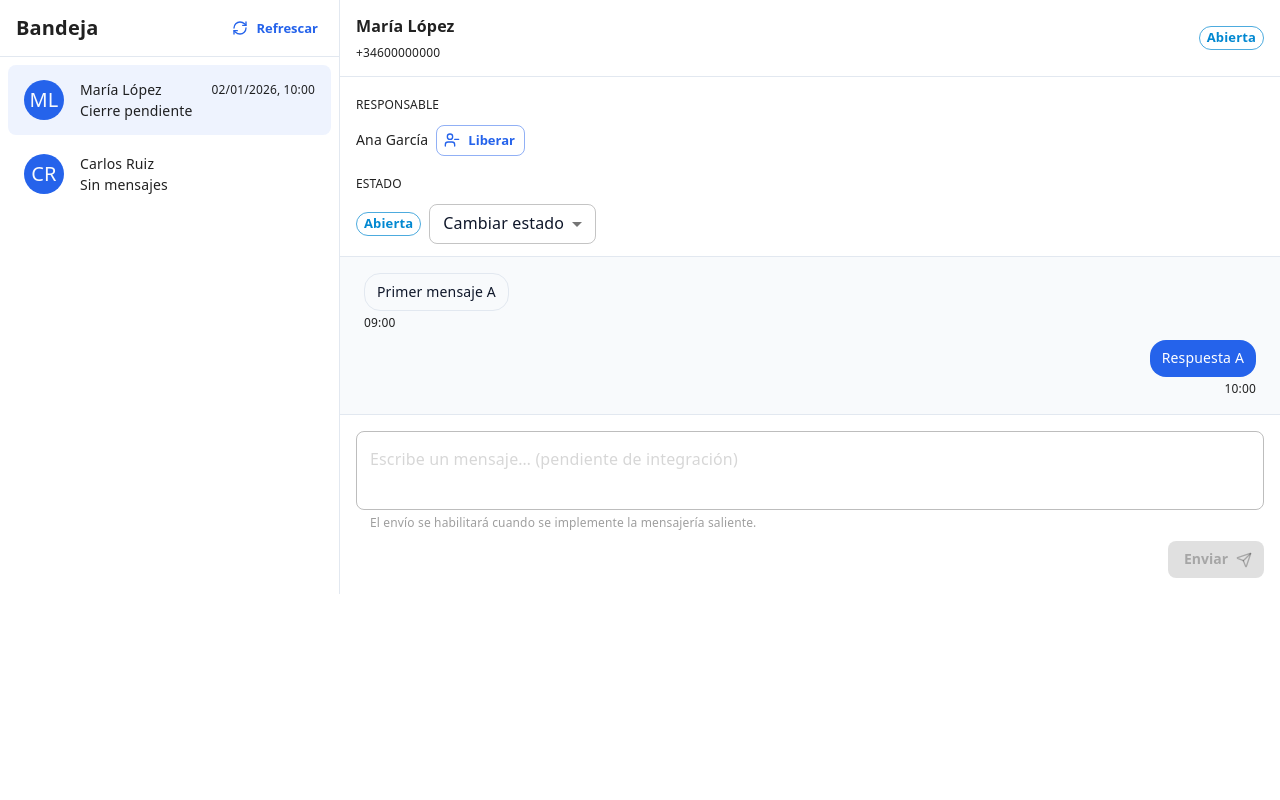
Scenario: InboxPage · acciones T09 › asigna al usuario actual con la respuesta confirmada del backend
This screenshot has width=1280, height=800.
Expected: the text "Primer mensaje A" is shown, left=377, top=282, right=496, bottom=302
Click the button "CR Carlos Ruiz Sin mensajes" at (96, 174), box left=24, top=154, right=168, bottom=194
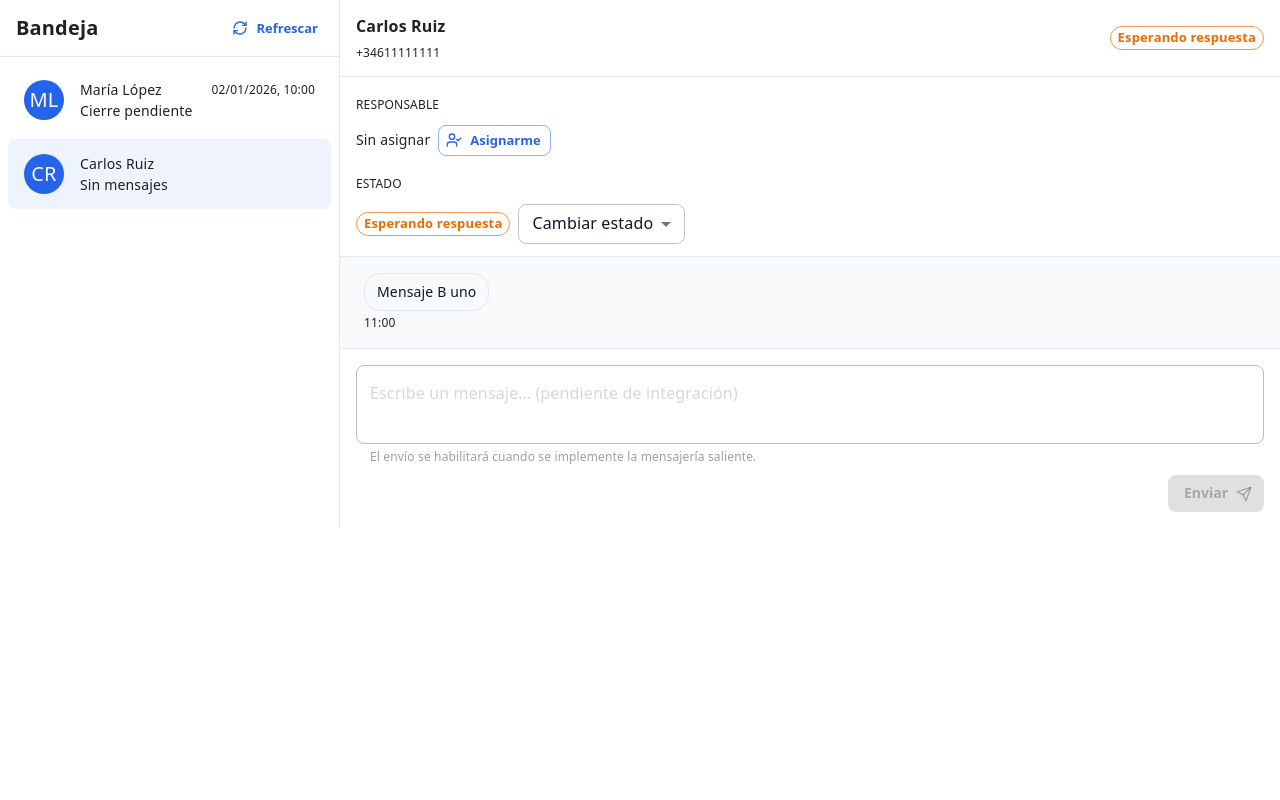
Now the text "Mensaje B uno" is shown, box left=377, top=282, right=476, bottom=302
Click the button "Asignarme" at (494, 140), box left=438, top=125, right=551, bottom=156
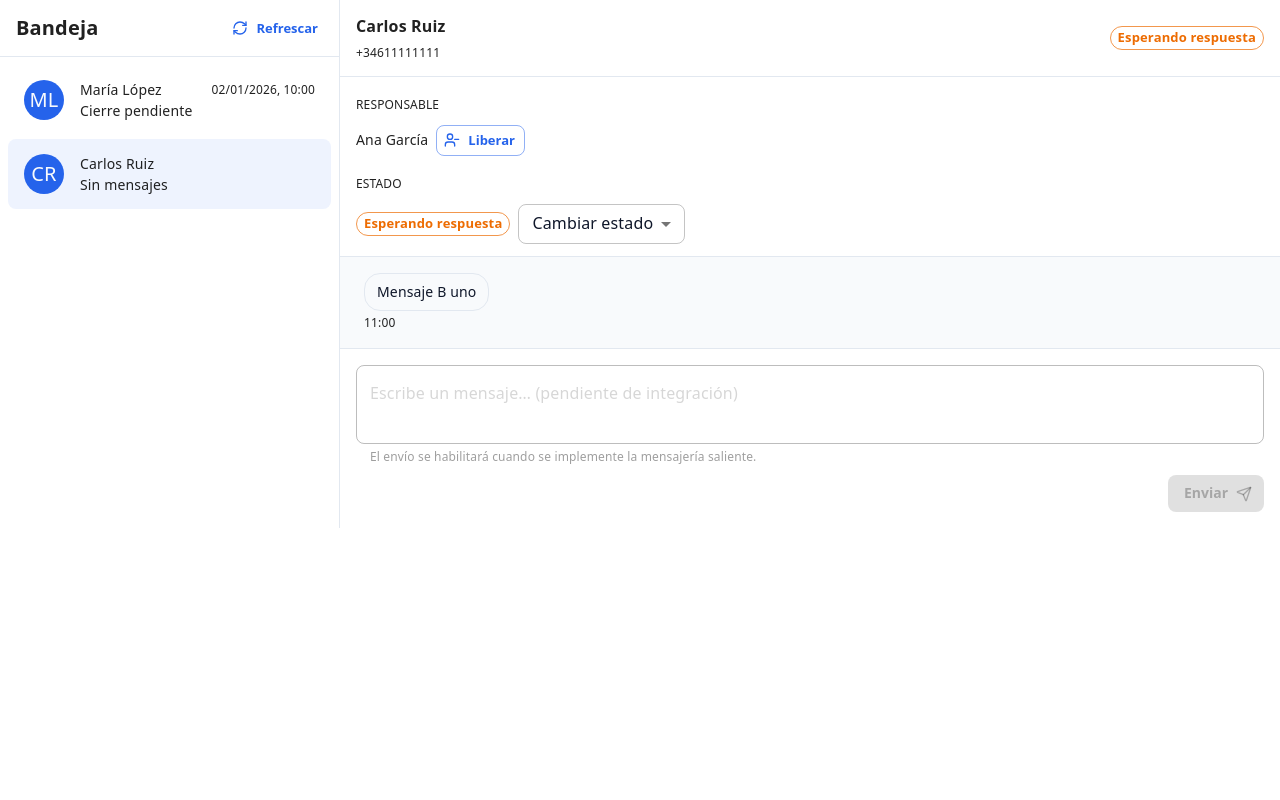
Now the text "Mensaje B uno" is shown, box left=377, top=282, right=476, bottom=302
Now the button "Liberar" is shown, box left=436, top=125, right=525, bottom=156
